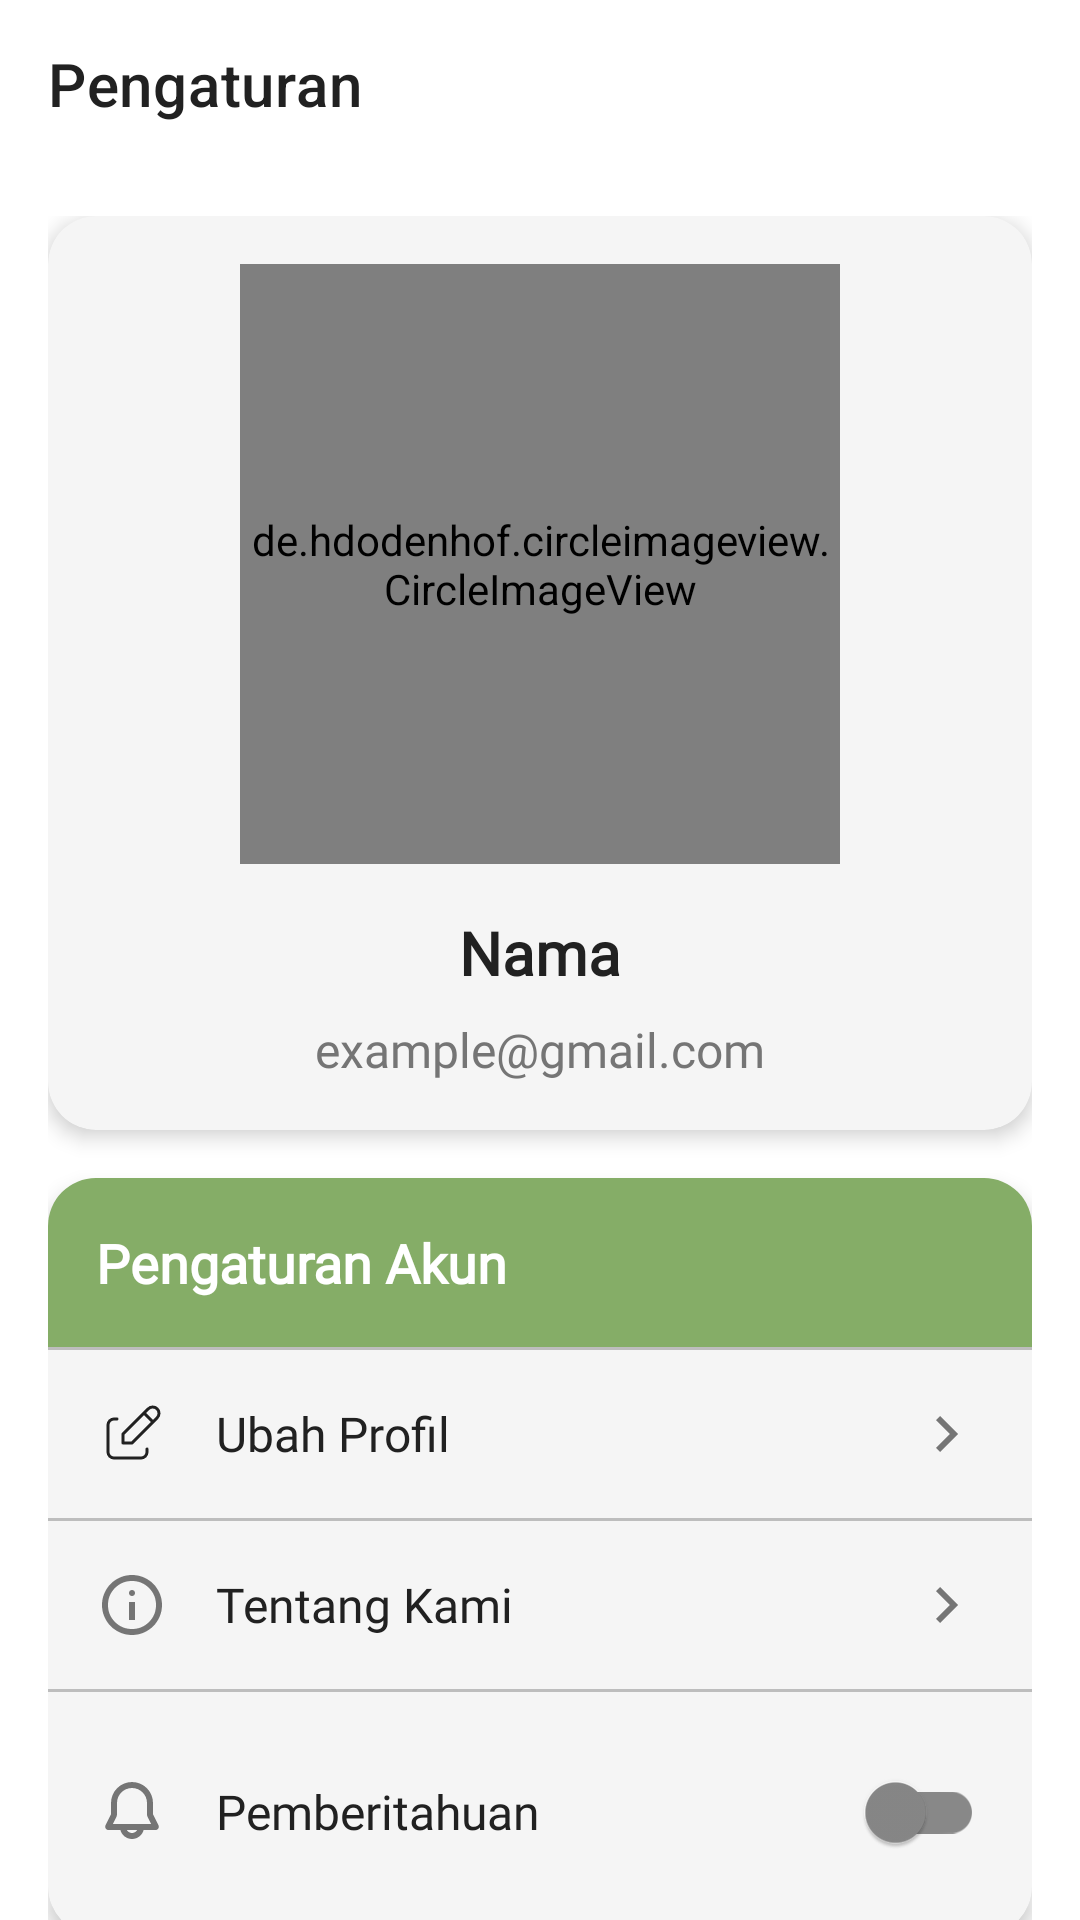

Point at icon controls on the screen. Image size 1080w x 1920h, points as (x=x, y=y).
about: (x=132, y=1605)
chevron right: (x=947, y=1434), (x=947, y=1605)
edit profil: (x=133, y=1432)
notification: (x=132, y=1810)
